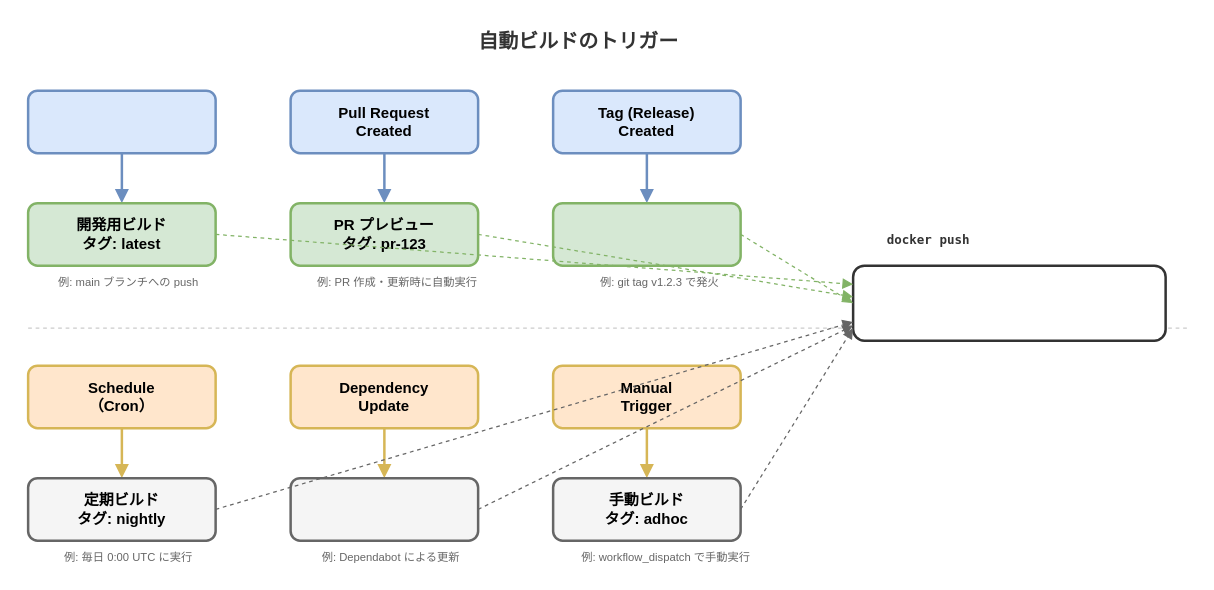
Some shapes in this 1214 by 590 pixel diagram are drawn without their labels. The shapes that lost their labels are listed below. From the top down, each one's box as (x1, y1, x2, y2) in pixels, then its label:
(26, 89, 216, 154): Push to Branch
(551, 201, 741, 266): リリースビルド タグ: v1.2.3
(851, 264, 1166, 341): コンテナレジストリ （Docker Hub / ECR / GHCR）
(289, 476, 479, 541): 依存更新ビルド タグ: security
